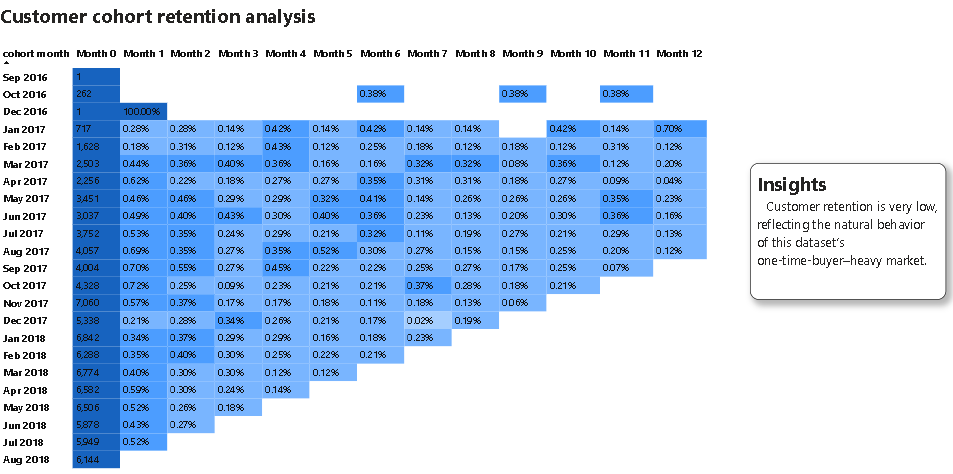

Layout of this report page (visuals, bound fields, positions):
{"tool":"powerbi","page":{"name":"cohort retention analysis","canvas":[1600,800],"ordinal":3},"visuals":[{"type":"pivotTable","fields":{"Values":["retention_heatmap_view.Heatmap Display"],"Rows":["retention_heatmap_view.cohort month"],"Columns":["retention_heatmap_view.month number"]},"box":[0,71.4,1244.8,728.6],"z":0},{"type":"textbox","box":[0,0,1244.8,71.4],"z":1000},{"type":"textbox","box":[1255,275,326.7,228.3],"z":2000},{"type":"textbox","box":[1254.8,71.4,345.2,119.5],"z":3000}]}

Visuals, with their boxes in screenshot pixels (x1, y1, x2, y2), scaled from the page's 1600x800 canvas onto the 953x474 screenshot:
pivotTable - retention_heatmap_view.Heatmap Display x retention_heatmap_view.cohort month: x1=0 y1=42 x2=741 y2=473
textbox: x1=0 y1=0 x2=741 y2=42
textbox: x1=748 y1=163 x2=942 y2=298
textbox: x1=747 y1=42 x2=952 y2=113
